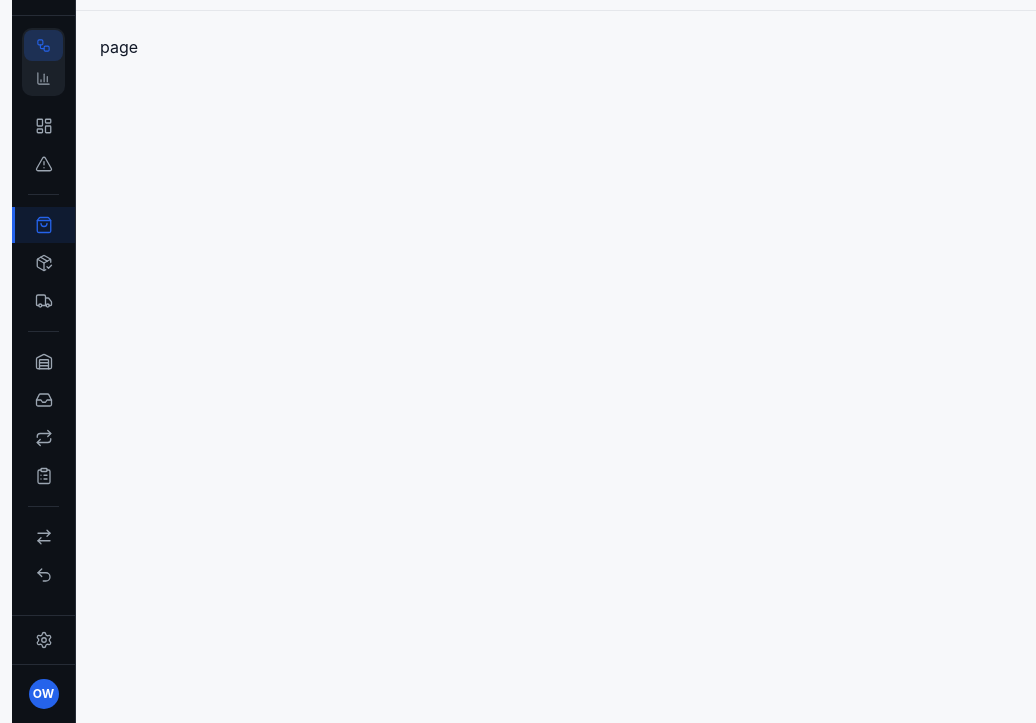
Test: mode switch (owner, analytics on) › m3 — no or invalid stored pages fall back to Overview / Summary
Click the tab with test id "mode-tab-analytics": (44, 78) [24, 63, 63, 94]
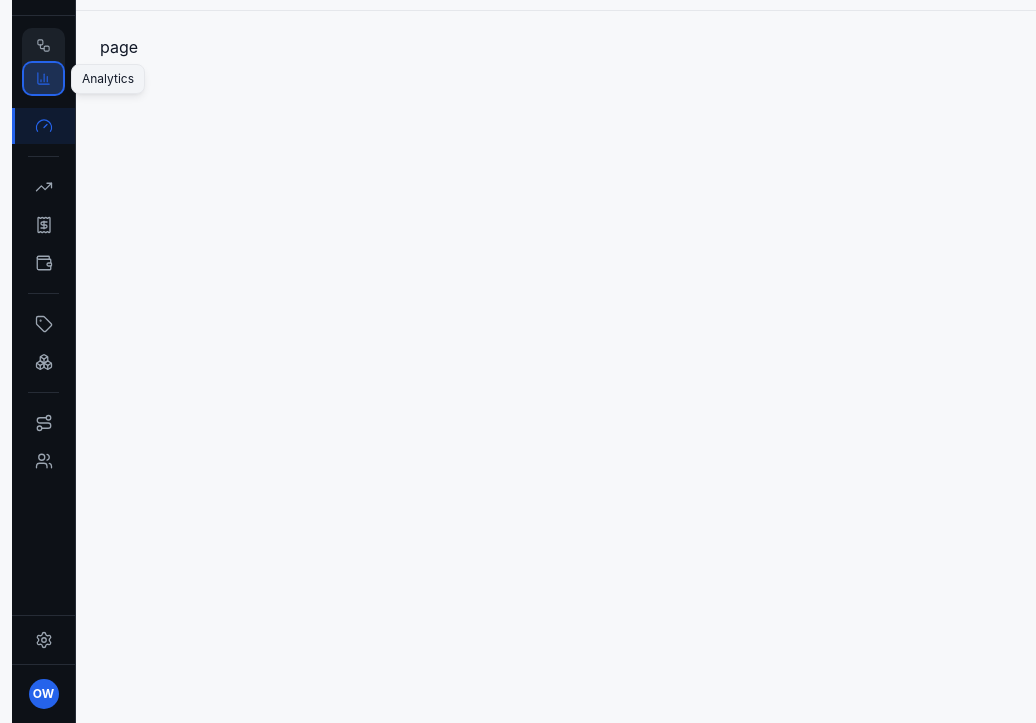
Click the tab with test id "mode-tab-operations": (44, 46) [24, 30, 63, 61]
(page scrolled)
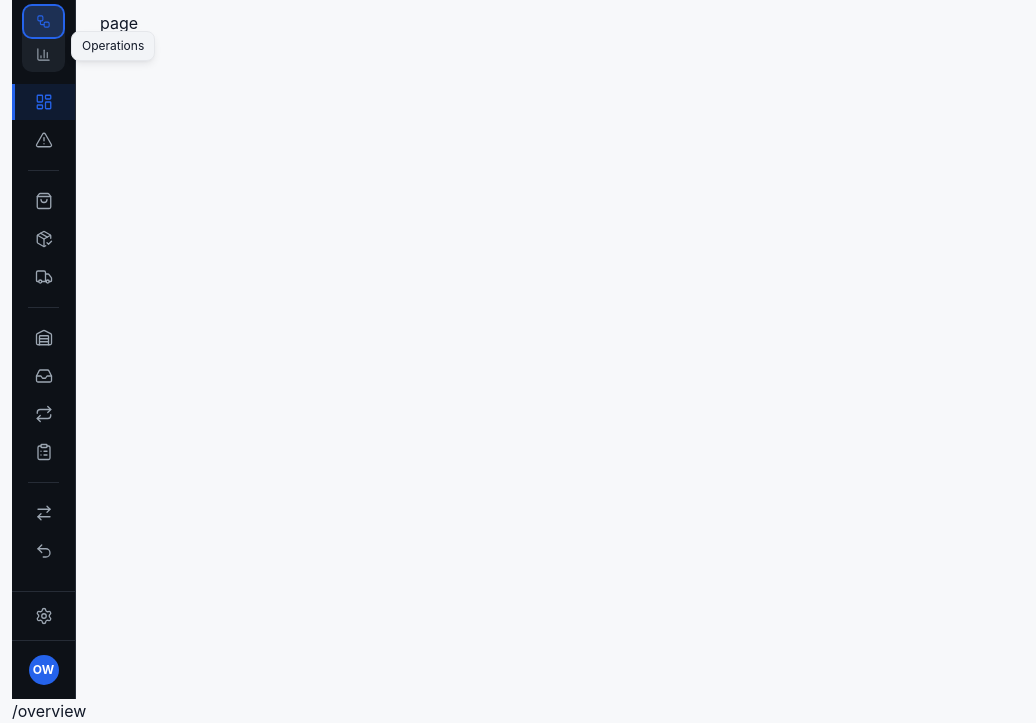
Expected: the text with test id "location" reads "/overview", [12, 701, 86, 721]
